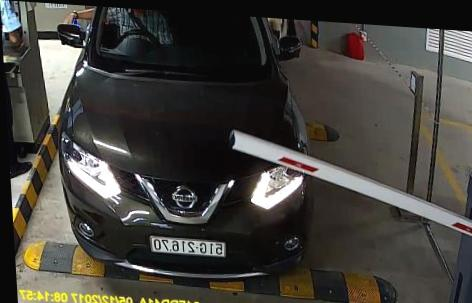License_Plate: (149, 228, 229, 260)
